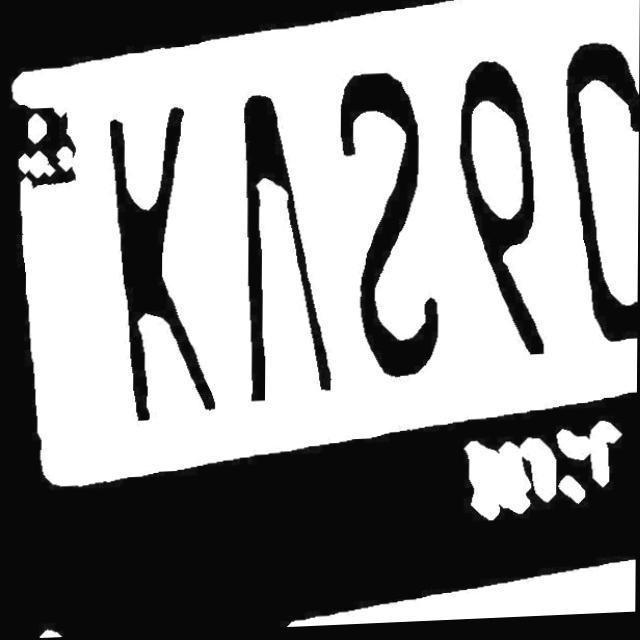6: (429, 53, 532, 385)
c: (543, 41, 639, 350)
k: (106, 89, 233, 431)
s: (322, 69, 430, 420)
v: (220, 65, 335, 433)
